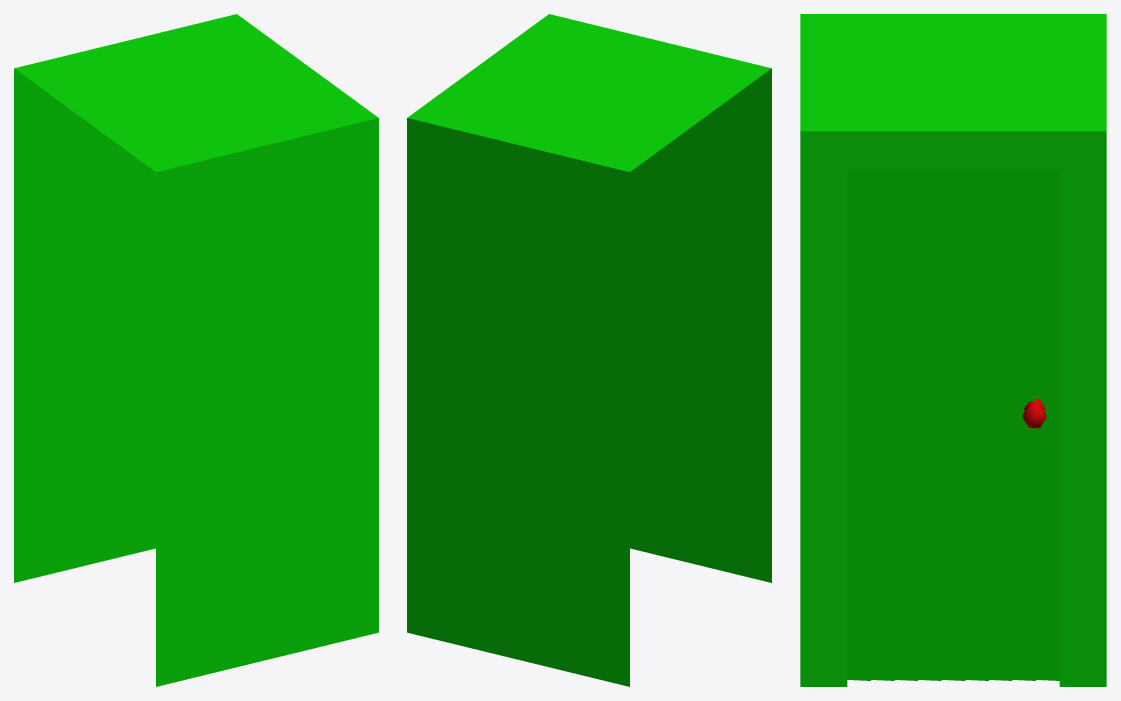
Rendered from Door.fbx.
3 renders of one model, left to right at view 1: azimuth 30°, elevation 25°; view 2: azimuth 150°, elevation 25°; view 3: azimuth 270°, elevation 25°, orthographic. The views are drawn at different scales.
Visible parts, largest first — view 1: Door2; view 2: Door2; view 3: Door2.
Boxes of the visible parts, x1,y1,x2,y2 form: Door2: (14,14,378,686); Door2: (407,14,771,686); Door2: (800,14,1106,686).
Bounding box in the file's own units: 0.9494 × 2 × 1.
